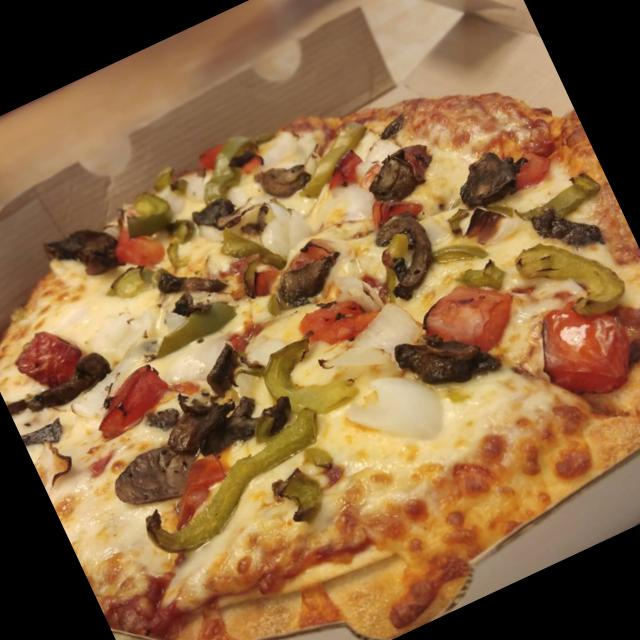mushrooms: (160, 374, 300, 482), (388, 306, 508, 414), (105, 430, 213, 526), (13, 342, 122, 426), (362, 207, 451, 306), (39, 215, 132, 296), (352, 138, 444, 214), (148, 251, 234, 331), (445, 140, 532, 217), (190, 184, 270, 258), (272, 242, 356, 312), (528, 188, 606, 260), (192, 335, 258, 404), (252, 154, 316, 209), (17, 410, 70, 455), (142, 395, 188, 437)
peppers: (120, 404, 346, 572), (508, 215, 636, 345), (252, 318, 368, 436), (274, 111, 389, 212), (178, 126, 278, 217), (138, 286, 246, 369), (262, 439, 356, 532), (508, 165, 606, 237), (106, 182, 180, 249), (450, 248, 514, 304), (429, 228, 487, 276), (102, 258, 158, 305)
pizza: (0, 93, 640, 640)
